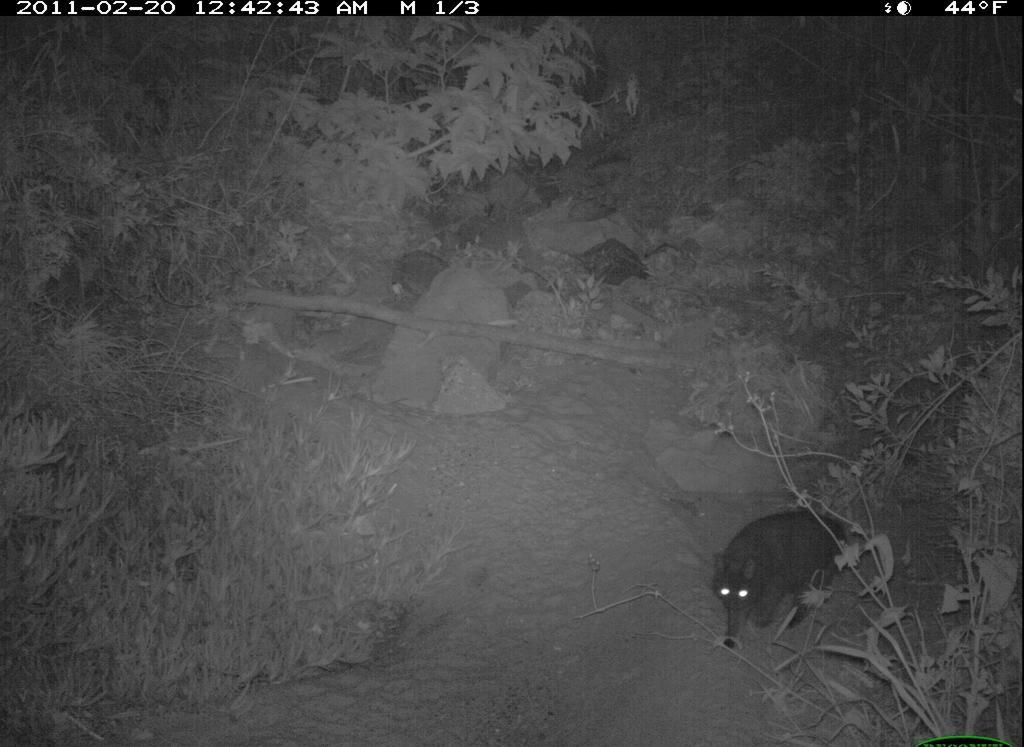cat: (710, 505, 849, 646)
